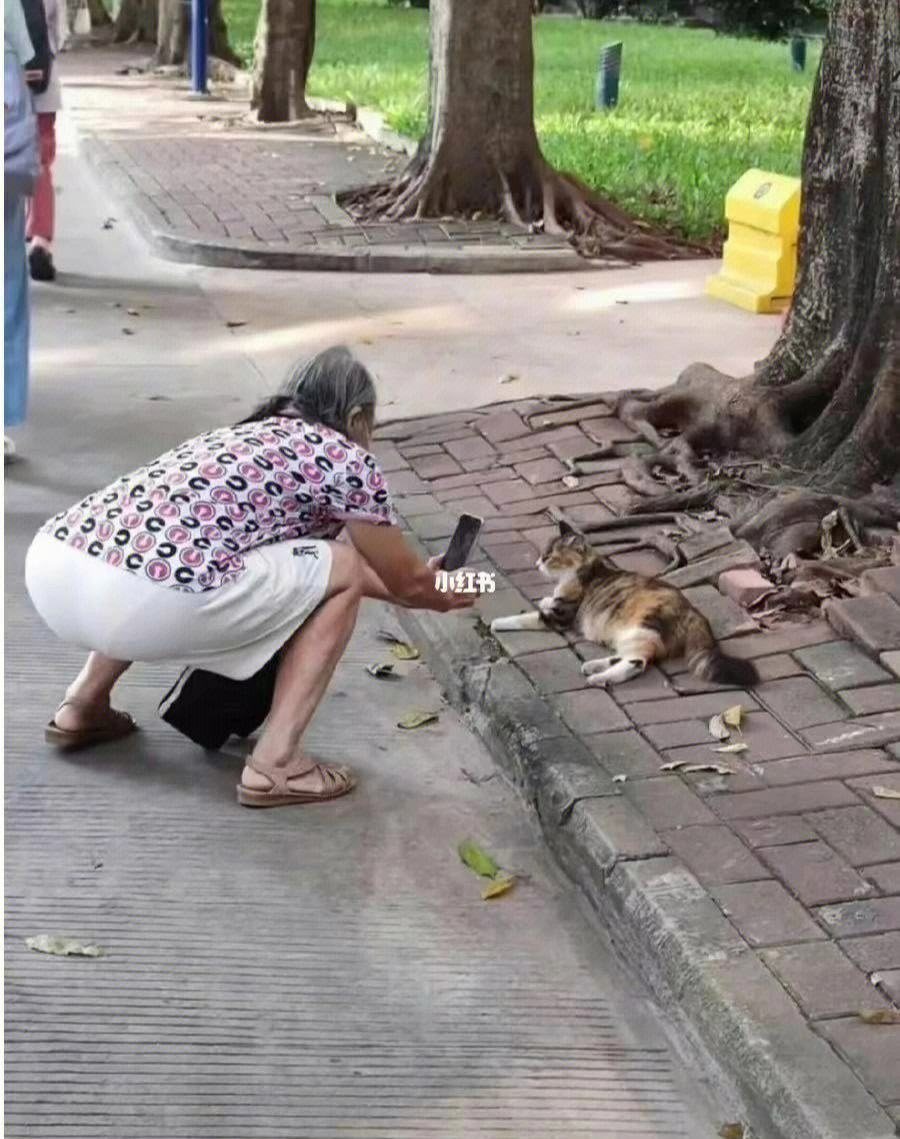cat: (489, 522, 760, 693)
